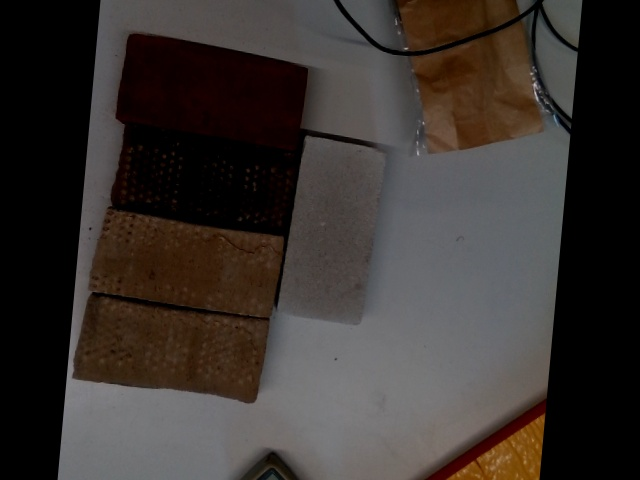brick: (118, 33, 308, 151), (277, 137, 390, 325), (76, 295, 269, 403), (93, 208, 281, 317), (113, 125, 300, 233)
